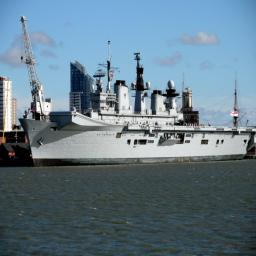Portanaves: (19, 51, 256, 168)
